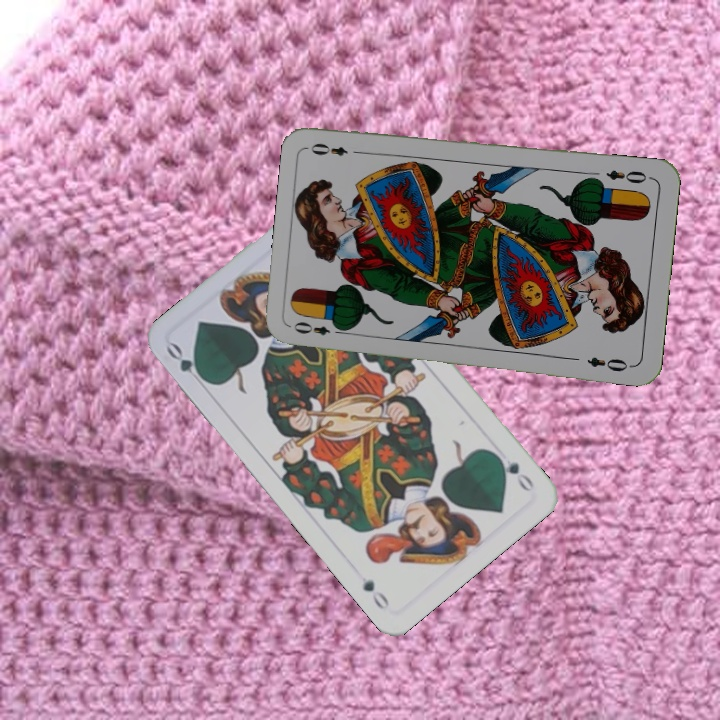EO: (289, 318, 347, 338), (602, 165, 654, 186)
GO: (162, 339, 211, 386), (490, 449, 537, 495)
